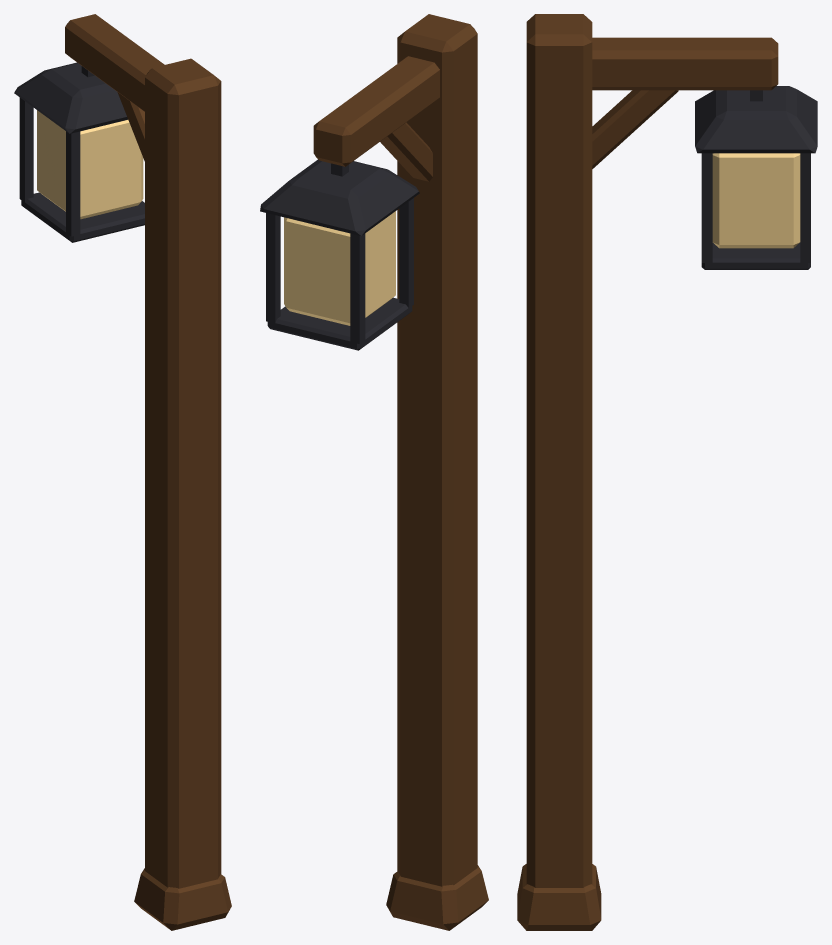
File: LampPost.fbx
3 renders of one model, left to right at view 1: azimuth 30°, elevation 25°; view 2: azimuth 150°, elevation 25°; view 3: azimuth 270°, elevation 25°, orthographic. The views are drawn at different scales.
Visible parts, largest first — view 1: Post, Iron, Lantern; view 2: Post, Iron, Lantern; view 3: Post, Iron, Lantern.
Boxes of the visible parts, x1,y1,x2,y2 form: Post: (65,14,231,930); Iron: (14,62,144,242); Lantern: (37,110,143,219); Post: (313,14,488,930); Iron: (260,159,419,350); Lantern: (284,211,395,325); Post: (517,14,778,930); Iron: (695,86,817,269); Lantern: (712,153,800,248).
Bounding box in the file's own units: 1.12 × 9 × 2.74.
